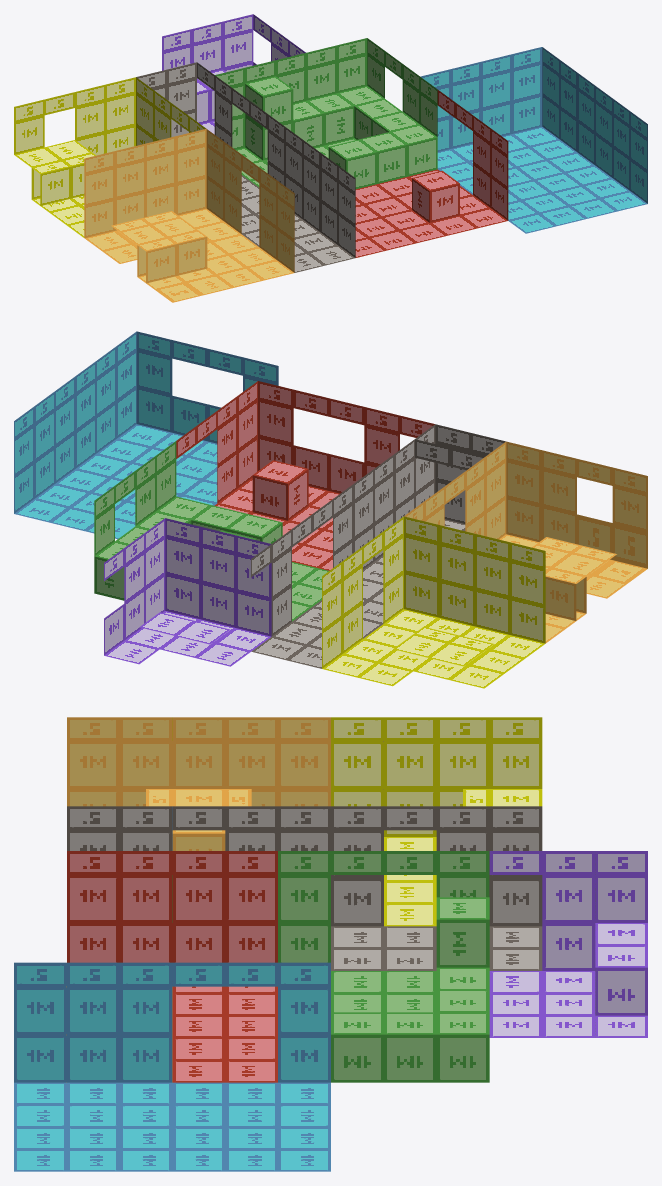
File: 01_house.gltf
3 renders of one model, top to bottom at view 1: azimuth 30°, elevation 25°; view 2: azimuth 150°, elevation 25°; view 3: azimuth 270°, elevation 25°, orthographic. The views are drawn at different scales.
Bounding box in the file's own units: 15 × 2.5 × 12.
1 material, 1 textured.
